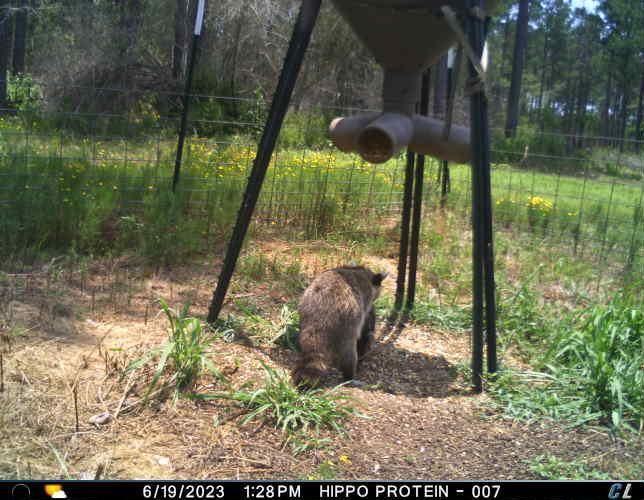Raccoon: (297, 254, 390, 386)
